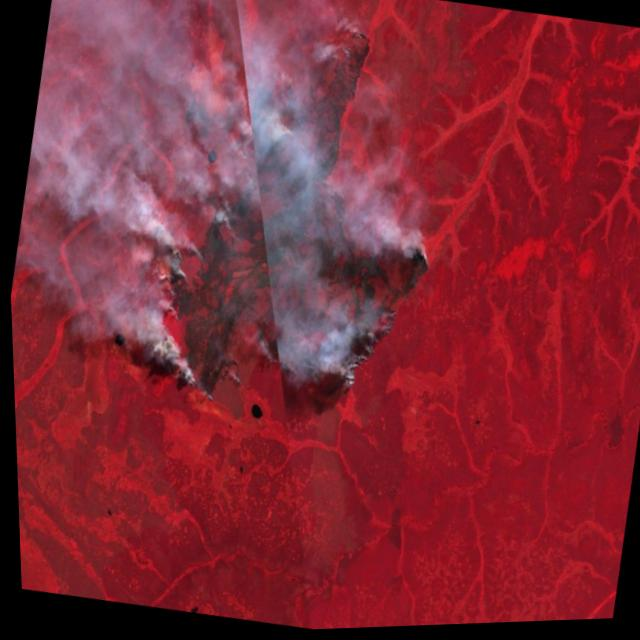fire: (113, 187, 300, 424), (309, 212, 443, 433), (265, 3, 383, 179)
